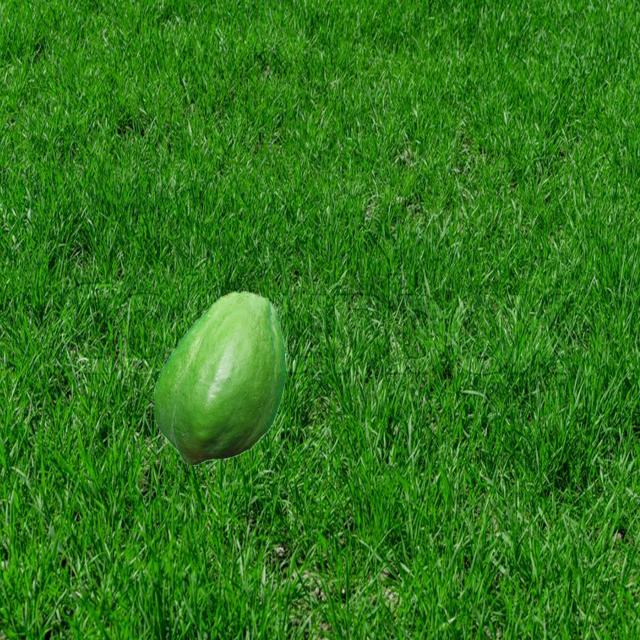Pepaya unrippen: (144, 284, 291, 468)
